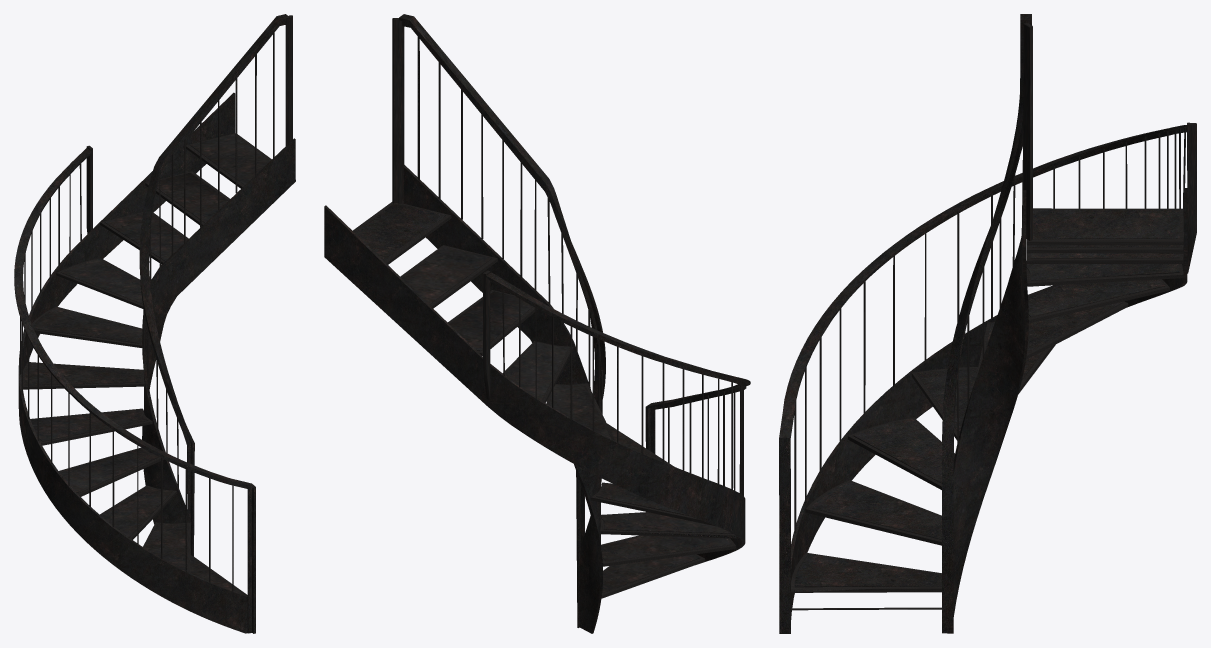
File: Stairs.FBX
3 views of the same model, side by side, from view 1: azimuth 30°, elevation 25°; view 2: azimuth 150°, elevation 25°; view 3: azimuth 270°, elevation 25° (orthographic). The views are drawn at different scales.
Visible parts, largest first — view 1: stairs; view 2: stairs; view 3: stairs.
Part boxes in pixels (x1=…): stairs: x1=14, y1=14, x2=295, y2=633; stairs: x1=324, y1=14, x2=750, y2=633; stairs: x1=779, y1=14, x2=1196, y2=633.
Size of the model in its own units: 216 by 392 by 212.
Materials: 1 (1 with a texture image).
